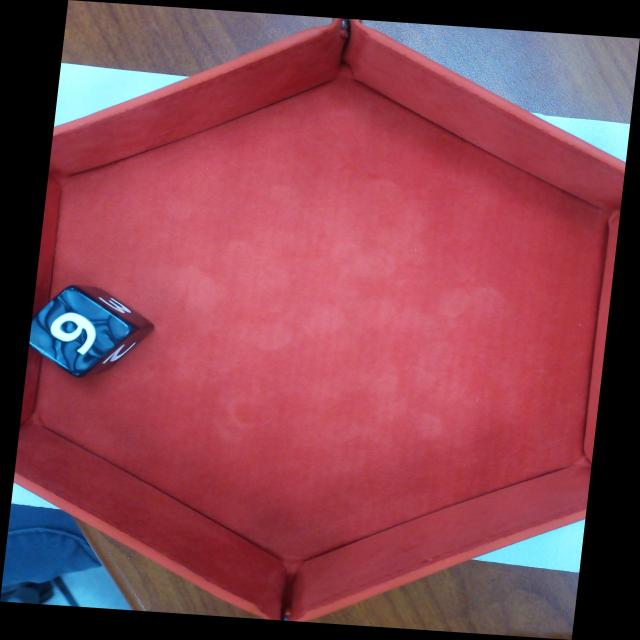dice: (32, 283, 135, 375)
